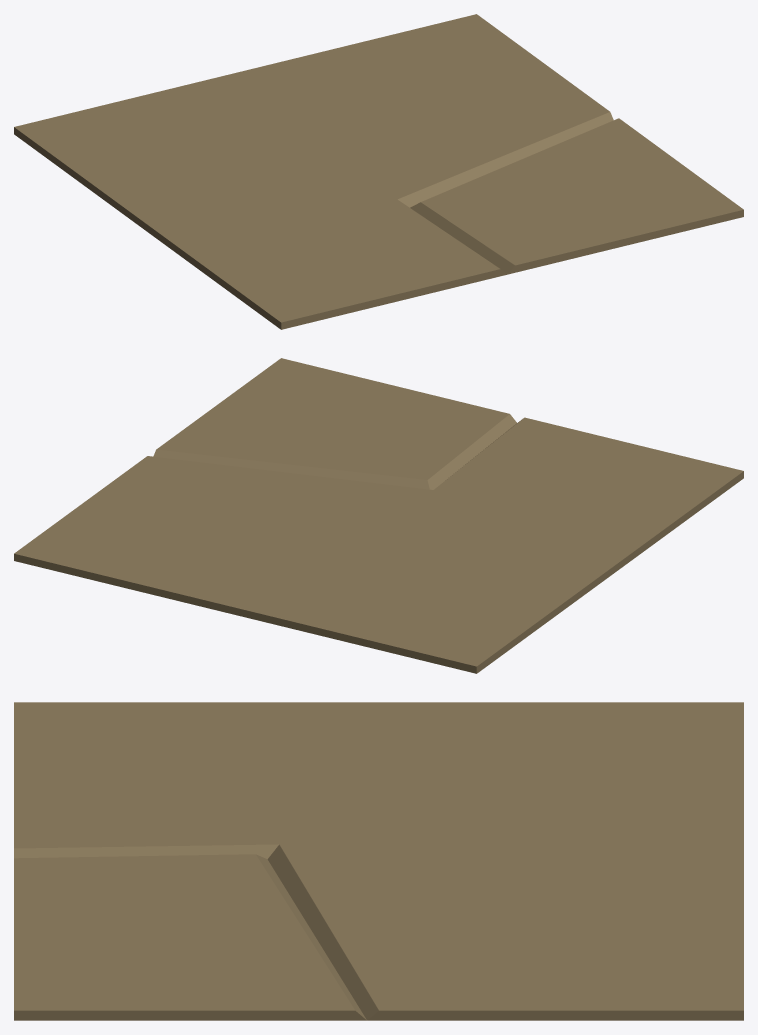
Rendered from Roof_Tile_5_low.fbx.
3 views of the same model, one above another, from view 1: azimuth 30°, elevation 25°; view 2: azimuth 150°, elevation 25°; view 3: azimuth 270°, elevation 25° (orthographic). The views are drawn at different scales.
Visible parts, largest first — view 1: Roof_Tile_5_low; view 2: Roof_Tile_5_low; view 3: Roof_Tile_5_low.
Part boxes in pixels (bbox=[...]): Roof_Tile_5_low: bbox=[14, 14, 743, 329]; Roof_Tile_5_low: bbox=[14, 358, 743, 673]; Roof_Tile_5_low: bbox=[14, 702, 743, 1020].
Size of the model in its own units: 1 by 0.0151 by 1.
